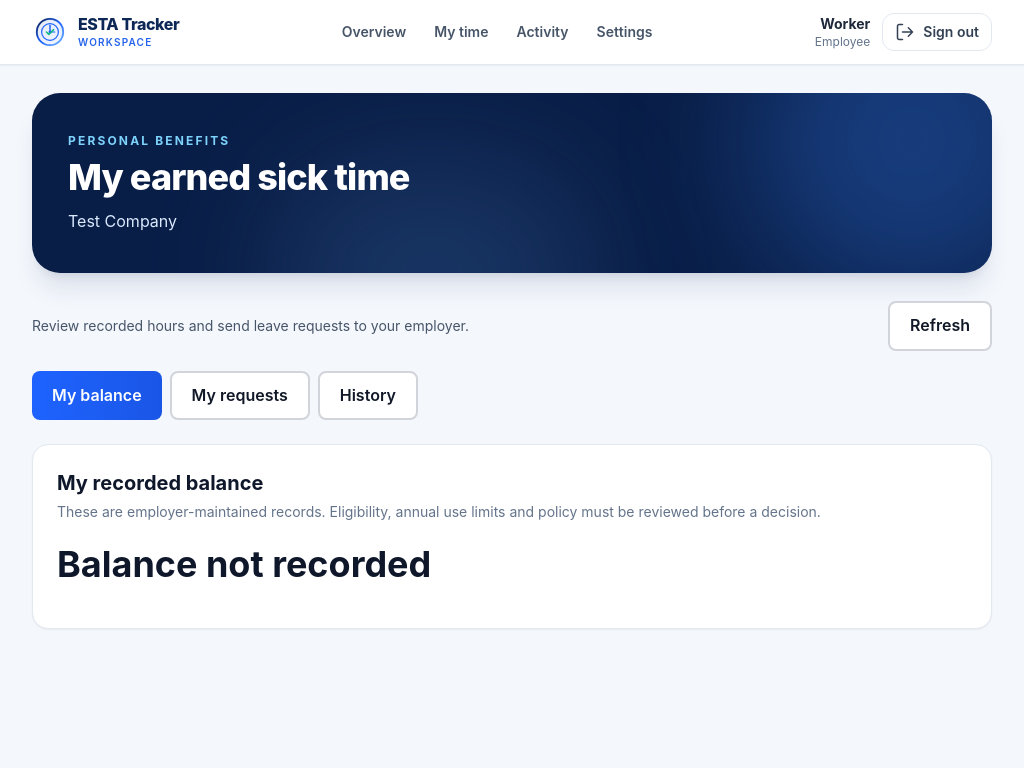
Scenario: connected employee workspace › distinguishes missing balances from recorded zero
Check: the text "Balance not recorded" is shown, box [57,542,431,586]
Click the button "Refresh" at (940, 326), box [888,301,992,351]
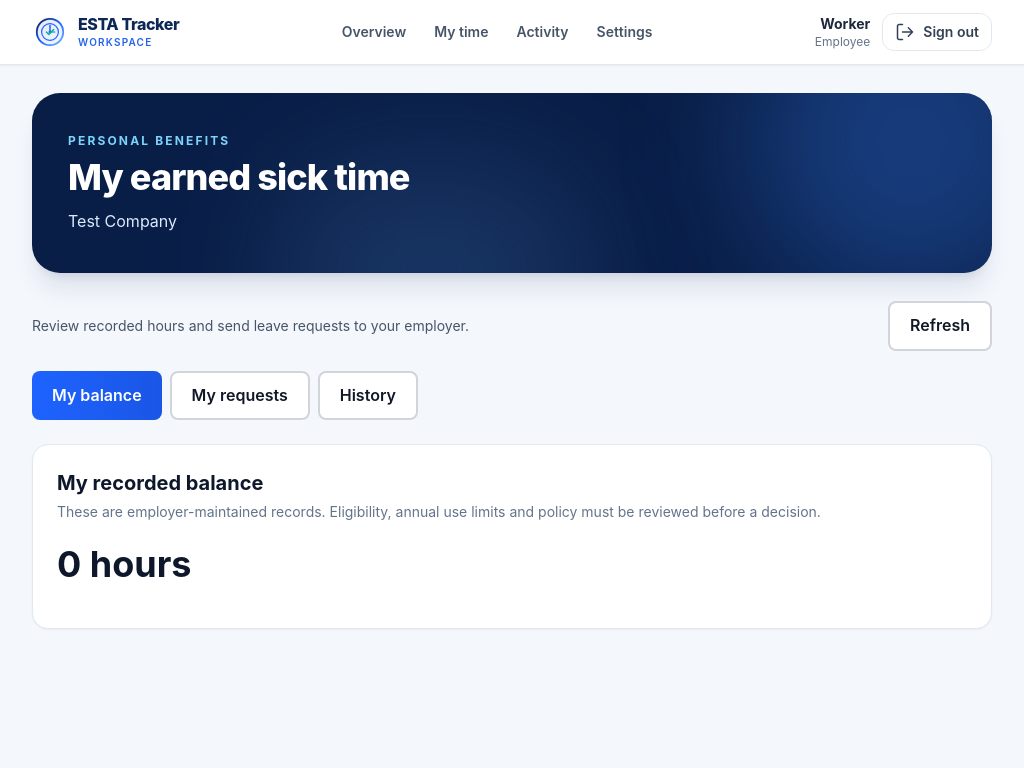
Check: the text "0 hours" is shown, box [57,542,192,586]
